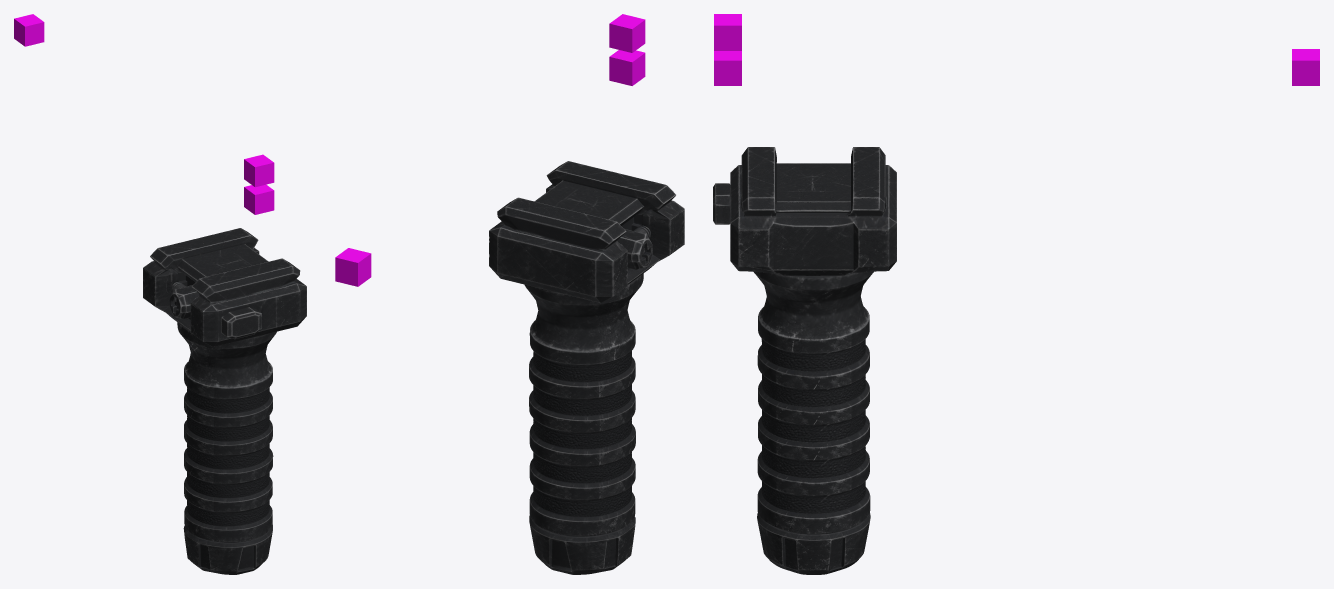
Rendered from VerticalGrip_Shotgun.glb.
The picture shows the model from 3 angles, left to right: view 1: azimuth 30°, elevation 25°; view 2: azimuth 150°, elevation 25°; view 3: azimuth 270°, elevation 25°; orthographic projection. The views are drawn at different scales.
Parts seen in each view (by area): view 1: VerticalGrip_30, VerticalGrip_29, VerticalGrip_27, VerticalGrip_26, VerticalGrip_25, VerticalGrip_28, VerticalGrip_24, VerticalGrip_17, VerticalGrip_15, VerticalGrip_16, VerticalGrip_22, VerticalGrip_19 (+15 smaller); view 2: VerticalGrip_01, VerticalGrip_03, VerticalGrip_04, VerticalGrip_05, VerticalGrip_02, VerticalGrip_06, VerticalGrip_14, VerticalGrip_15, VerticalGrip_07, VerticalGrip_12, VerticalGrip_11, VerticalGrip_13 (+16 smaller); view 3: VerticalGrip_01, VerticalGrip_30, VerticalGrip_15, VerticalGrip_16, VerticalGrip_14, VerticalGrip_17, VerticalGrip_19, VerticalGrip_11, VerticalGrip_12, VerticalGrip_20, VerticalGrip_10, VerticalGrip_18 (+19 smaller).
Part boxes in pixels (<box>): VerticalGrip_30: <box>191,263,306,547</box>; VerticalGrip_29: <box>191,261,298,562</box>; VerticalGrip_27: <box>191,260,289,571</box>; VerticalGrip_26: <box>190,261,291,573</box>; VerticalGrip_25: <box>192,259,285,574</box>; VerticalGrip_28: <box>193,262,294,567</box>; VerticalGrip_24: <box>192,258,289,574</box>; VerticalGrip_17: <box>178,257,270,570</box>; VerticalGrip_15: <box>171,253,260,566</box>; VerticalGrip_16: <box>175,255,269,569</box>; VerticalGrip_22: <box>203,342,272,574</box>; VerticalGrip_19: <box>187,260,272,572</box>; VerticalGrip_01: <box>489,200,626,556</box>; VerticalGrip_03: <box>501,200,626,570</box>; VerticalGrip_04: <box>509,200,627,572</box>; VerticalGrip_05: <box>513,199,627,574</box>; VerticalGrip_02: <box>500,220,625,562</box>; VerticalGrip_06: <box>509,197,625,574</box>; VerticalGrip_14: <box>532,195,643,569</box>; VerticalGrip_15: <box>542,192,648,565</box>; VerticalGrip_07: <box>514,199,626,574</box>; VerticalGrip_12: <box>529,199,633,571</box>; VerticalGrip_11: <box>529,200,629,573</box>; VerticalGrip_13: <box>531,197,640,570</box>; VerticalGrip_01: <box>854,147,896,539</box>; VerticalGrip_30: <box>713,147,770,520</box>; VerticalGrip_15: <box>803,163,827,574</box>; VerticalGrip_16: <box>795,163,820,574</box>; VerticalGrip_14: <box>815,163,832,574</box>; VerticalGrip_17: <box>793,163,810,574</box>; VerticalGrip_19: <box>777,163,801,571</box>; VerticalGrip_11: <box>827,163,848,571</box>; VerticalGrip_12: <box>826,163,848,572</box>; VerticalGrip_20: <box>778,163,796,571</box>; VerticalGrip_10: <box>832,163,848,569</box>; VerticalGrip_18: <box>791,163,804,573</box>.
Bounding box in the file's own units: 0.1634 × 0.6387 × 0.6549.
Materials: 2 (1 with a texture image).
